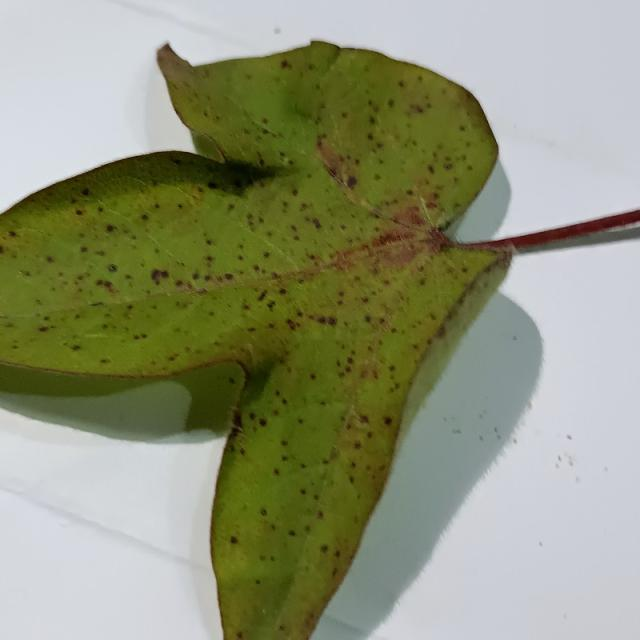Bacterial_Blight: (202, 154, 288, 188), (368, 224, 432, 255), (390, 204, 431, 236), (175, 277, 233, 295), (146, 258, 169, 287), (227, 401, 246, 436), (357, 363, 379, 382), (556, 450, 575, 469), (95, 279, 118, 293), (425, 190, 442, 207), (314, 314, 336, 326), (328, 446, 340, 462), (409, 103, 425, 114), (346, 174, 357, 189), (285, 318, 298, 330), (256, 289, 268, 302), (436, 325, 447, 339), (311, 218, 322, 230), (132, 333, 146, 341), (358, 413, 369, 423), (281, 156, 291, 166), (206, 182, 218, 190), (280, 60, 290, 69), (383, 416, 393, 425), (89, 301, 104, 307), (170, 158, 182, 165), (258, 418, 267, 427), (105, 224, 115, 232), (107, 264, 117, 272), (224, 273, 234, 281), (81, 188, 90, 196), (259, 507, 267, 516), (427, 165, 435, 174), (444, 162, 453, 170), (175, 280, 184, 288), (320, 544, 328, 553), (252, 264, 261, 272), (387, 98, 395, 107), (71, 344, 81, 351), (38, 326, 49, 332), (230, 536, 238, 544), (288, 529, 296, 537), (354, 441, 362, 449), (364, 315, 372, 323), (366, 133, 374, 141), (248, 412, 256, 420), (397, 80, 405, 88), (228, 376, 236, 384), (277, 624, 285, 632), (75, 209, 84, 216), (45, 256, 54, 263), (316, 510, 323, 519), (278, 288, 287, 295), (369, 116, 376, 125), (100, 358, 110, 364), (452, 428, 462, 434), (80, 246, 88, 253), (8, 230, 16, 237), (141, 214, 149, 221), (205, 239, 213, 246), (346, 356, 353, 364), (261, 117, 269, 124), (262, 251, 270, 258), (459, 124, 466, 132), (373, 173, 381, 180), (273, 27, 281, 34), (273, 468, 280, 475), (281, 440, 288, 447), (300, 488, 307, 495), (309, 373, 316, 380), (334, 550, 340, 558), (17, 270, 25, 276), (236, 635, 245, 640), (297, 418, 304, 424), (313, 494, 319, 501), (493, 426, 499, 433), (511, 334, 517, 341), (527, 402, 532, 410), (255, 579, 261, 585), (566, 434, 572, 440), (557, 455, 562, 462), (479, 435, 484, 442), (575, 476, 580, 483), (512, 438, 517, 444), (555, 463, 560, 469), (538, 541, 543, 547), (604, 466, 609, 472)
Cotton: (0, 43, 502, 639)
